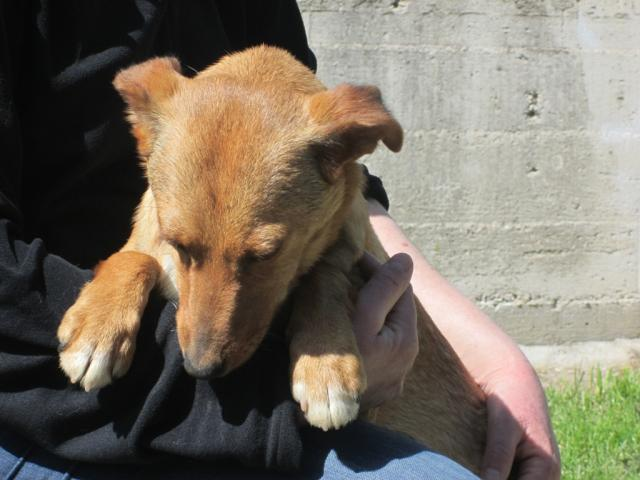Dog: (57, 43, 486, 478)
